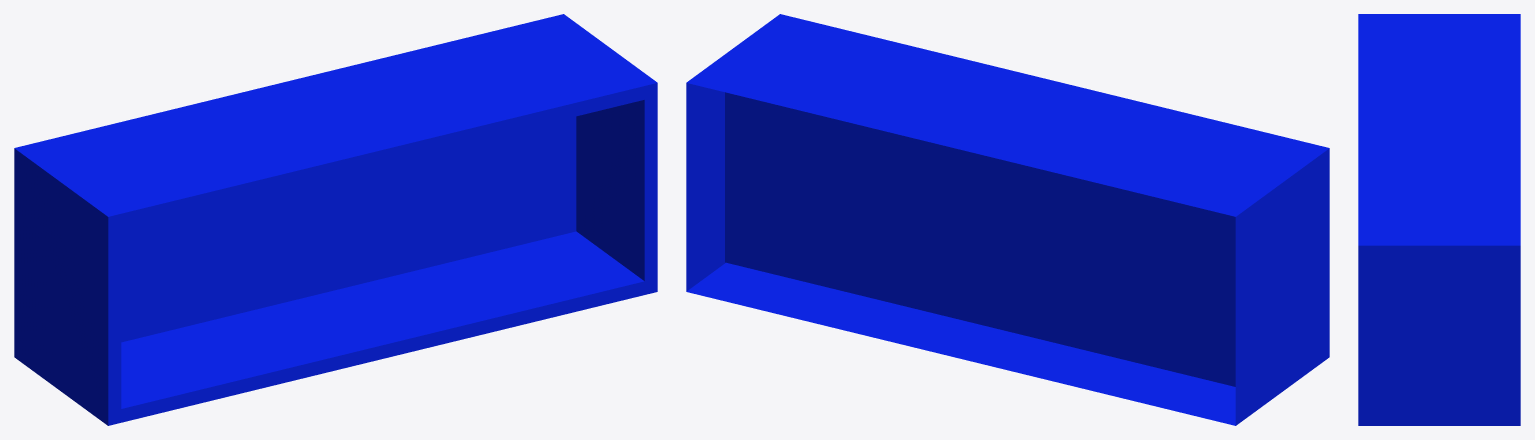
File: Shelf.fbx
3 renders of one model, left to right at view 1: azimuth 30°, elevation 25°; view 2: azimuth 150°, elevation 25°; view 3: azimuth 270°, elevation 25°, orthographic. The views are drawn at different scales.
Visible parts, largest first — view 1: Shelf; view 2: Shelf; view 3: Shelf.
Boxes of the visible parts, x1,y1,x2,y2 form: Shelf: [14, 14, 657, 425]; Shelf: [686, 14, 1329, 425]; Shelf: [1358, 14, 1520, 425].
Size of the model in its own units: 1.39 by 0.5053 by 0.4118.
